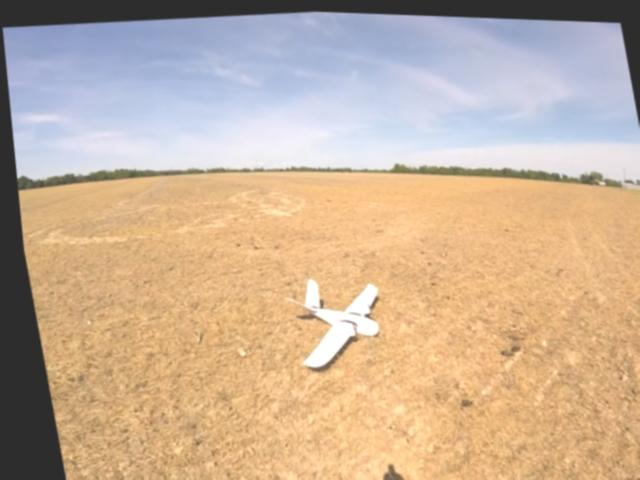plane: (276, 269, 384, 369)
